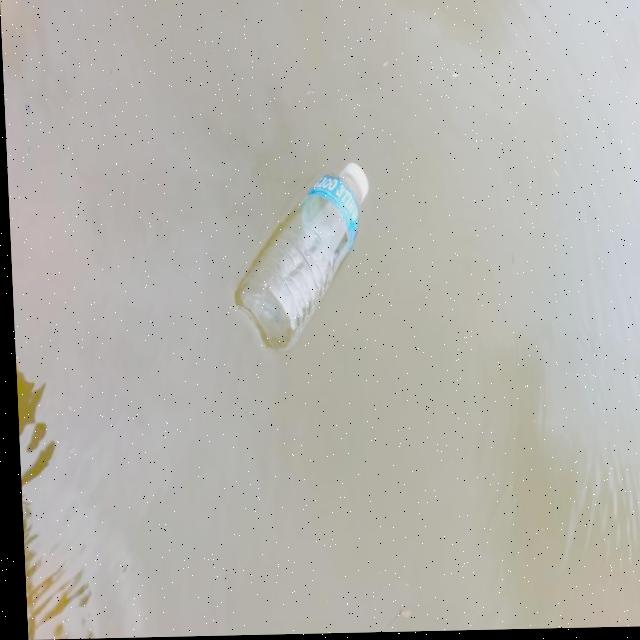waterbottle: (208, 157, 379, 350)
